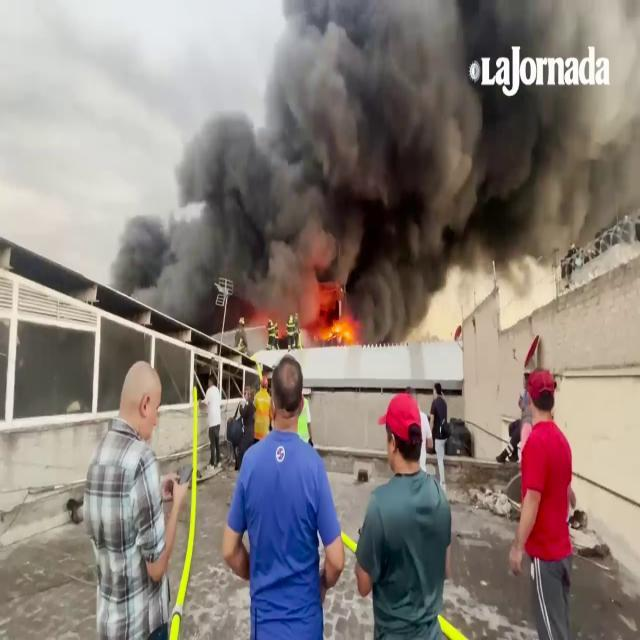Fire: (308, 306, 358, 346)
Smoke: (118, 0, 638, 310)
